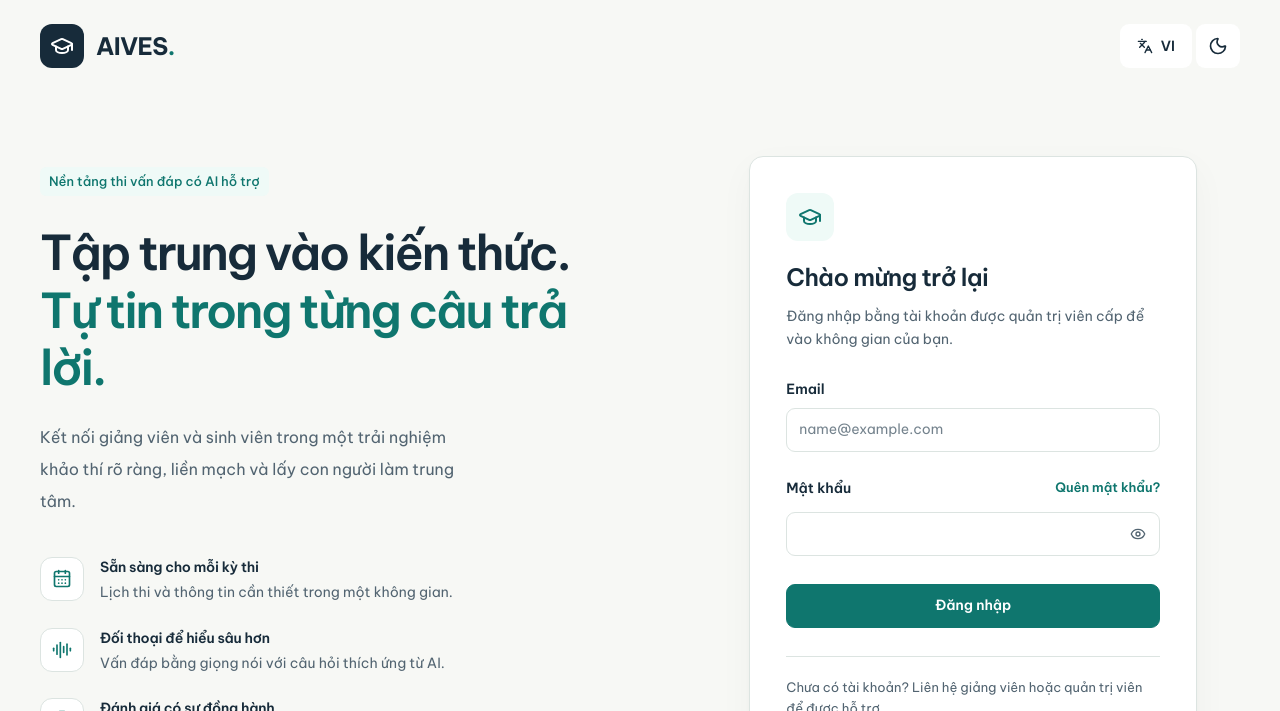
Test case: authentication exceptions › rejects an empty password without a request
This screenshot has width=1280, height=711.
Type "a@example.com" into the field labelled "Email". click: (973, 430)
box: [786,408,1160,452]
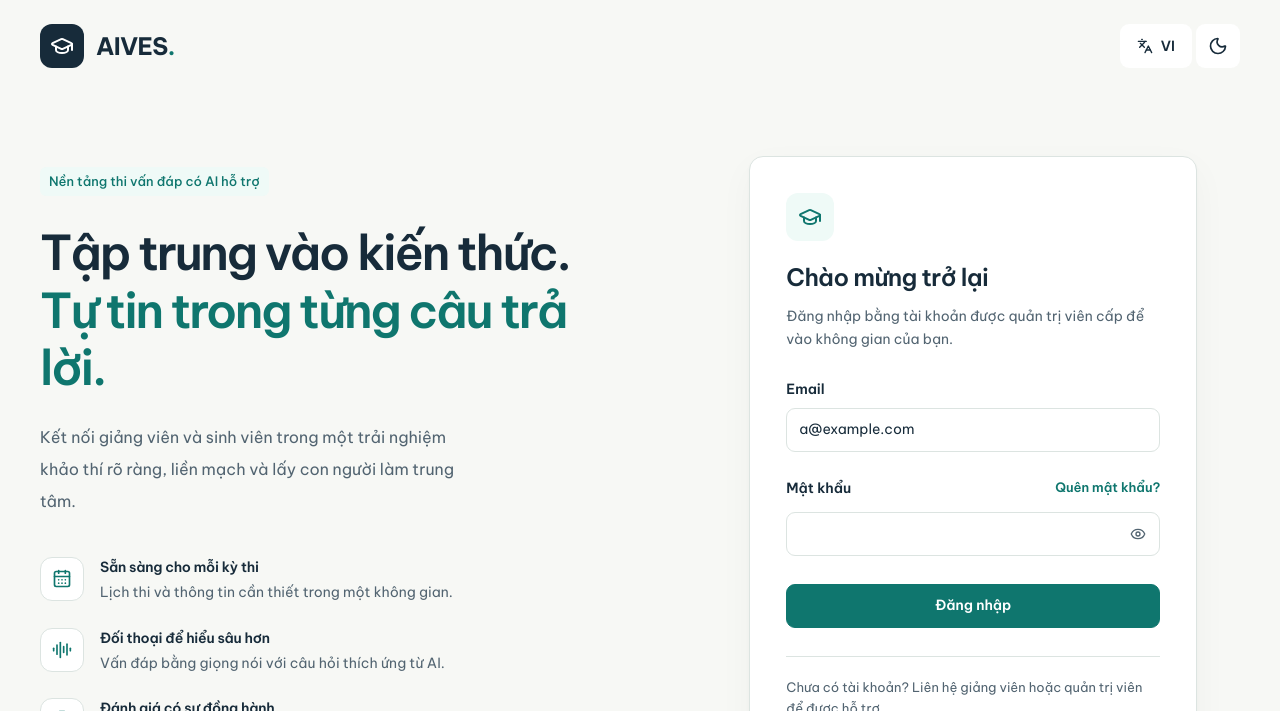
Submit the form, box [786,378,1160,628]
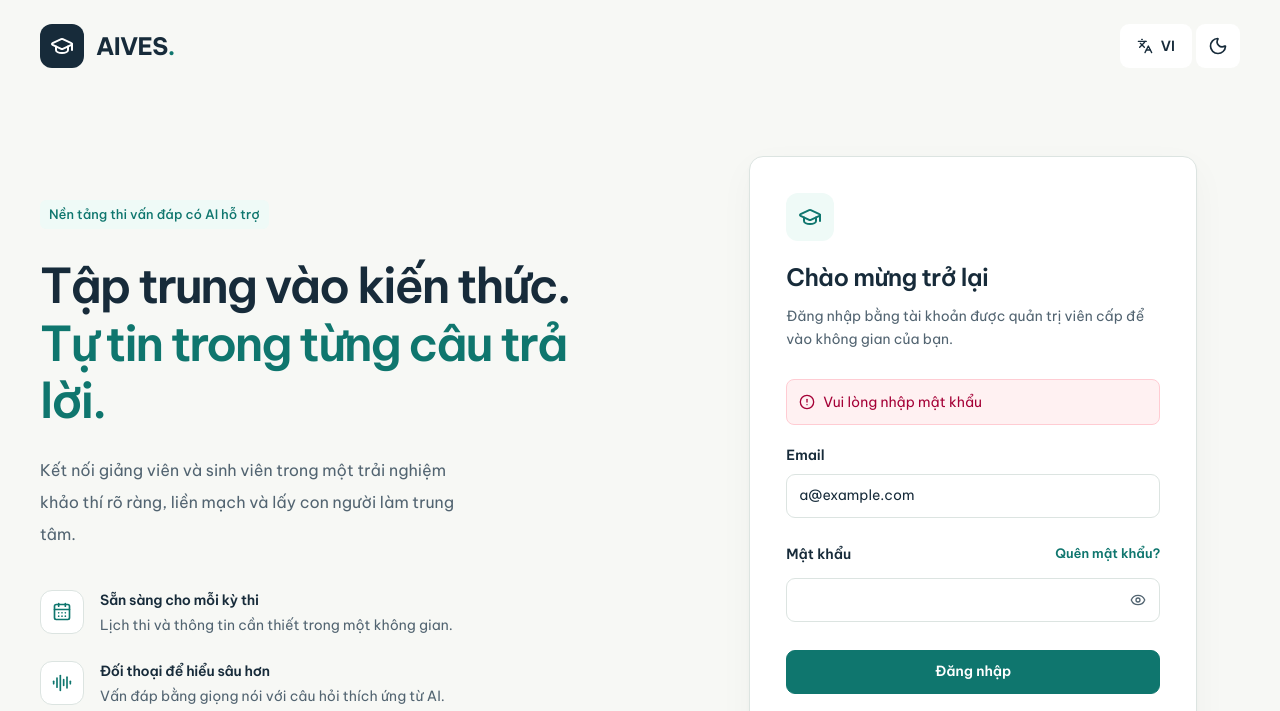
Expected: the message reads "Vui lòng nhập mật khẩu", [823,392,982,410]
